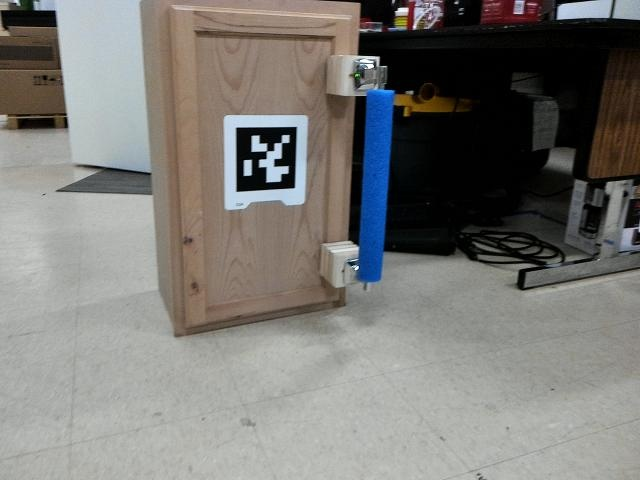noodle_handle: (347, 75, 398, 286)
